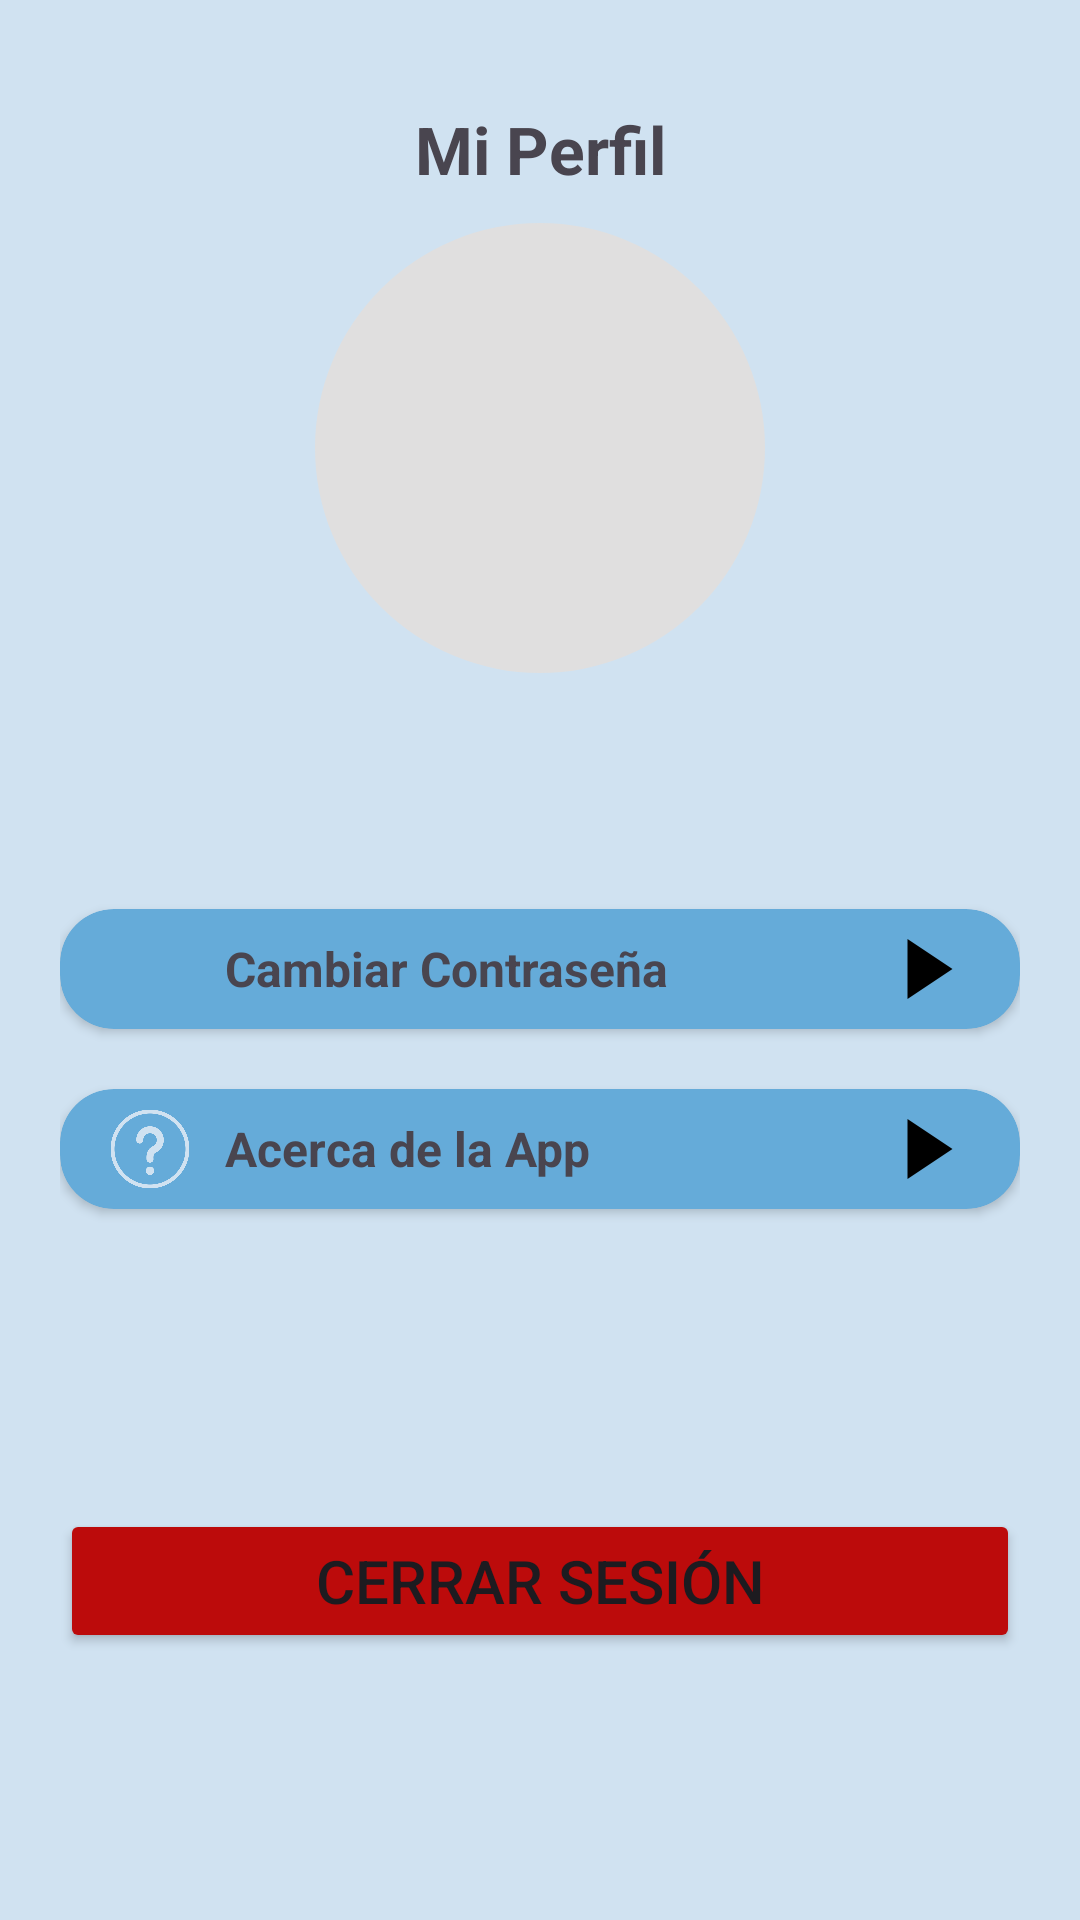

Screen size 1080px x 1920px. Icon name, then its box in pixels as (x1, y1, x2, y2):
info: (111, 1110, 189, 1188)
ir derecha: (907, 939, 952, 999), (907, 1119, 952, 1179)
